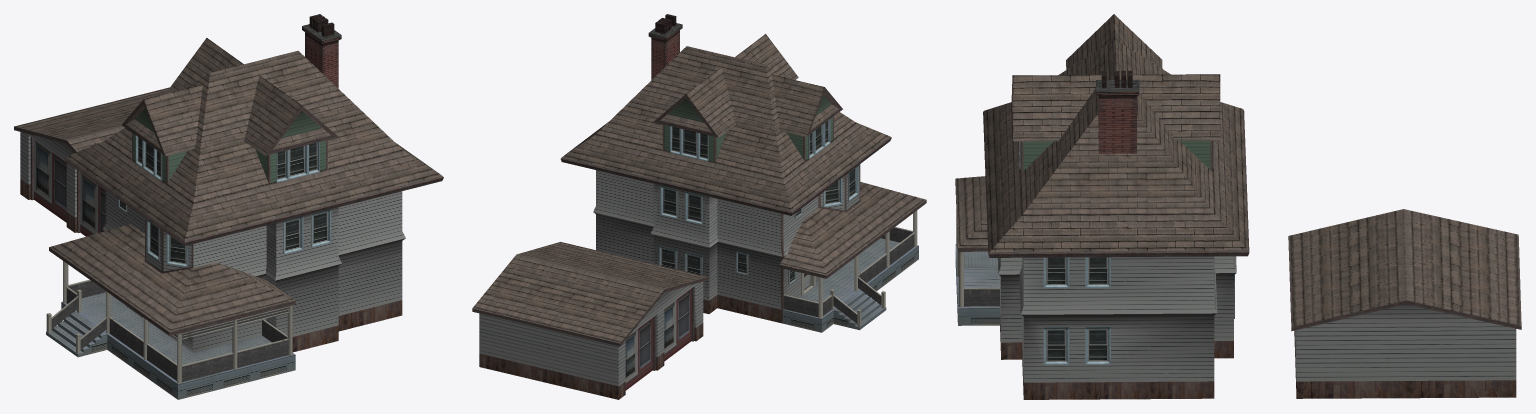
File: hOUSE.obj
The picture shows the model from 3 angles, left to right: view 1: azimuth 30°, elevation 25°; view 2: azimuth 150°, elevation 25°; view 3: azimuth 270°, elevation 25°; orthographic projection. The views are drawn at different scales.
Visible parts, largest first — view 1: mesh0001, mesh0004, mesh0002, mesh0003, mesh0006, mesh0000, mesh0005; view 2: mesh0001, mesh0004, mesh0002, mesh0000, mesh0003, mesh0006, mesh0005; view 3: mesh0001, mesh0004, mesh0000, mesh0005, mesh0002, mesh0003, mesh0006.
Boxes of the visible parts, left/top/right/bottom form: mesh0001: left=14, top=38, right=441, bottom=332; mesh0004: left=14, top=100, right=443, bottom=352; mesh0002: left=46, top=261, right=295, bottom=399; mesh0003: left=34, top=108, right=325, bottom=236; mesh0006: left=51, top=281, right=288, bottom=381; mesh0000: left=118, top=135, right=331, bottom=267; mesh0005: left=302, top=14, right=341, bottom=88; mesh0001: left=472, top=34, right=926, bottom=343; mesh0004: left=472, top=87, right=926, bottom=399; mesh0002: left=782, top=210, right=918, bottom=332; mesh0000: left=659, top=119, right=860, bottom=284; mesh0003: left=625, top=95, right=832, bottom=390; mesh0006: left=783, top=228, right=914, bottom=323; mesh0005: left=648, top=14, right=682, bottom=79; mesh0001: left=955, top=14, right=1521, bottom=327; mesh0004: left=955, top=83, right=1521, bottom=399; mesh0000: left=1019, top=140, right=1234, bottom=364; mesh0005: left=1096, top=70, right=1139, bottom=153; mesh0002: left=955, top=213, right=999, bottom=325; mesh0003: left=1020, top=140, right=1210, bottom=170; mesh0006: left=964, top=289, right=999, bottom=306.
Size of the model in its own units: 649 by 543 by 913.
Materials: 7 (7 with a texture image).
